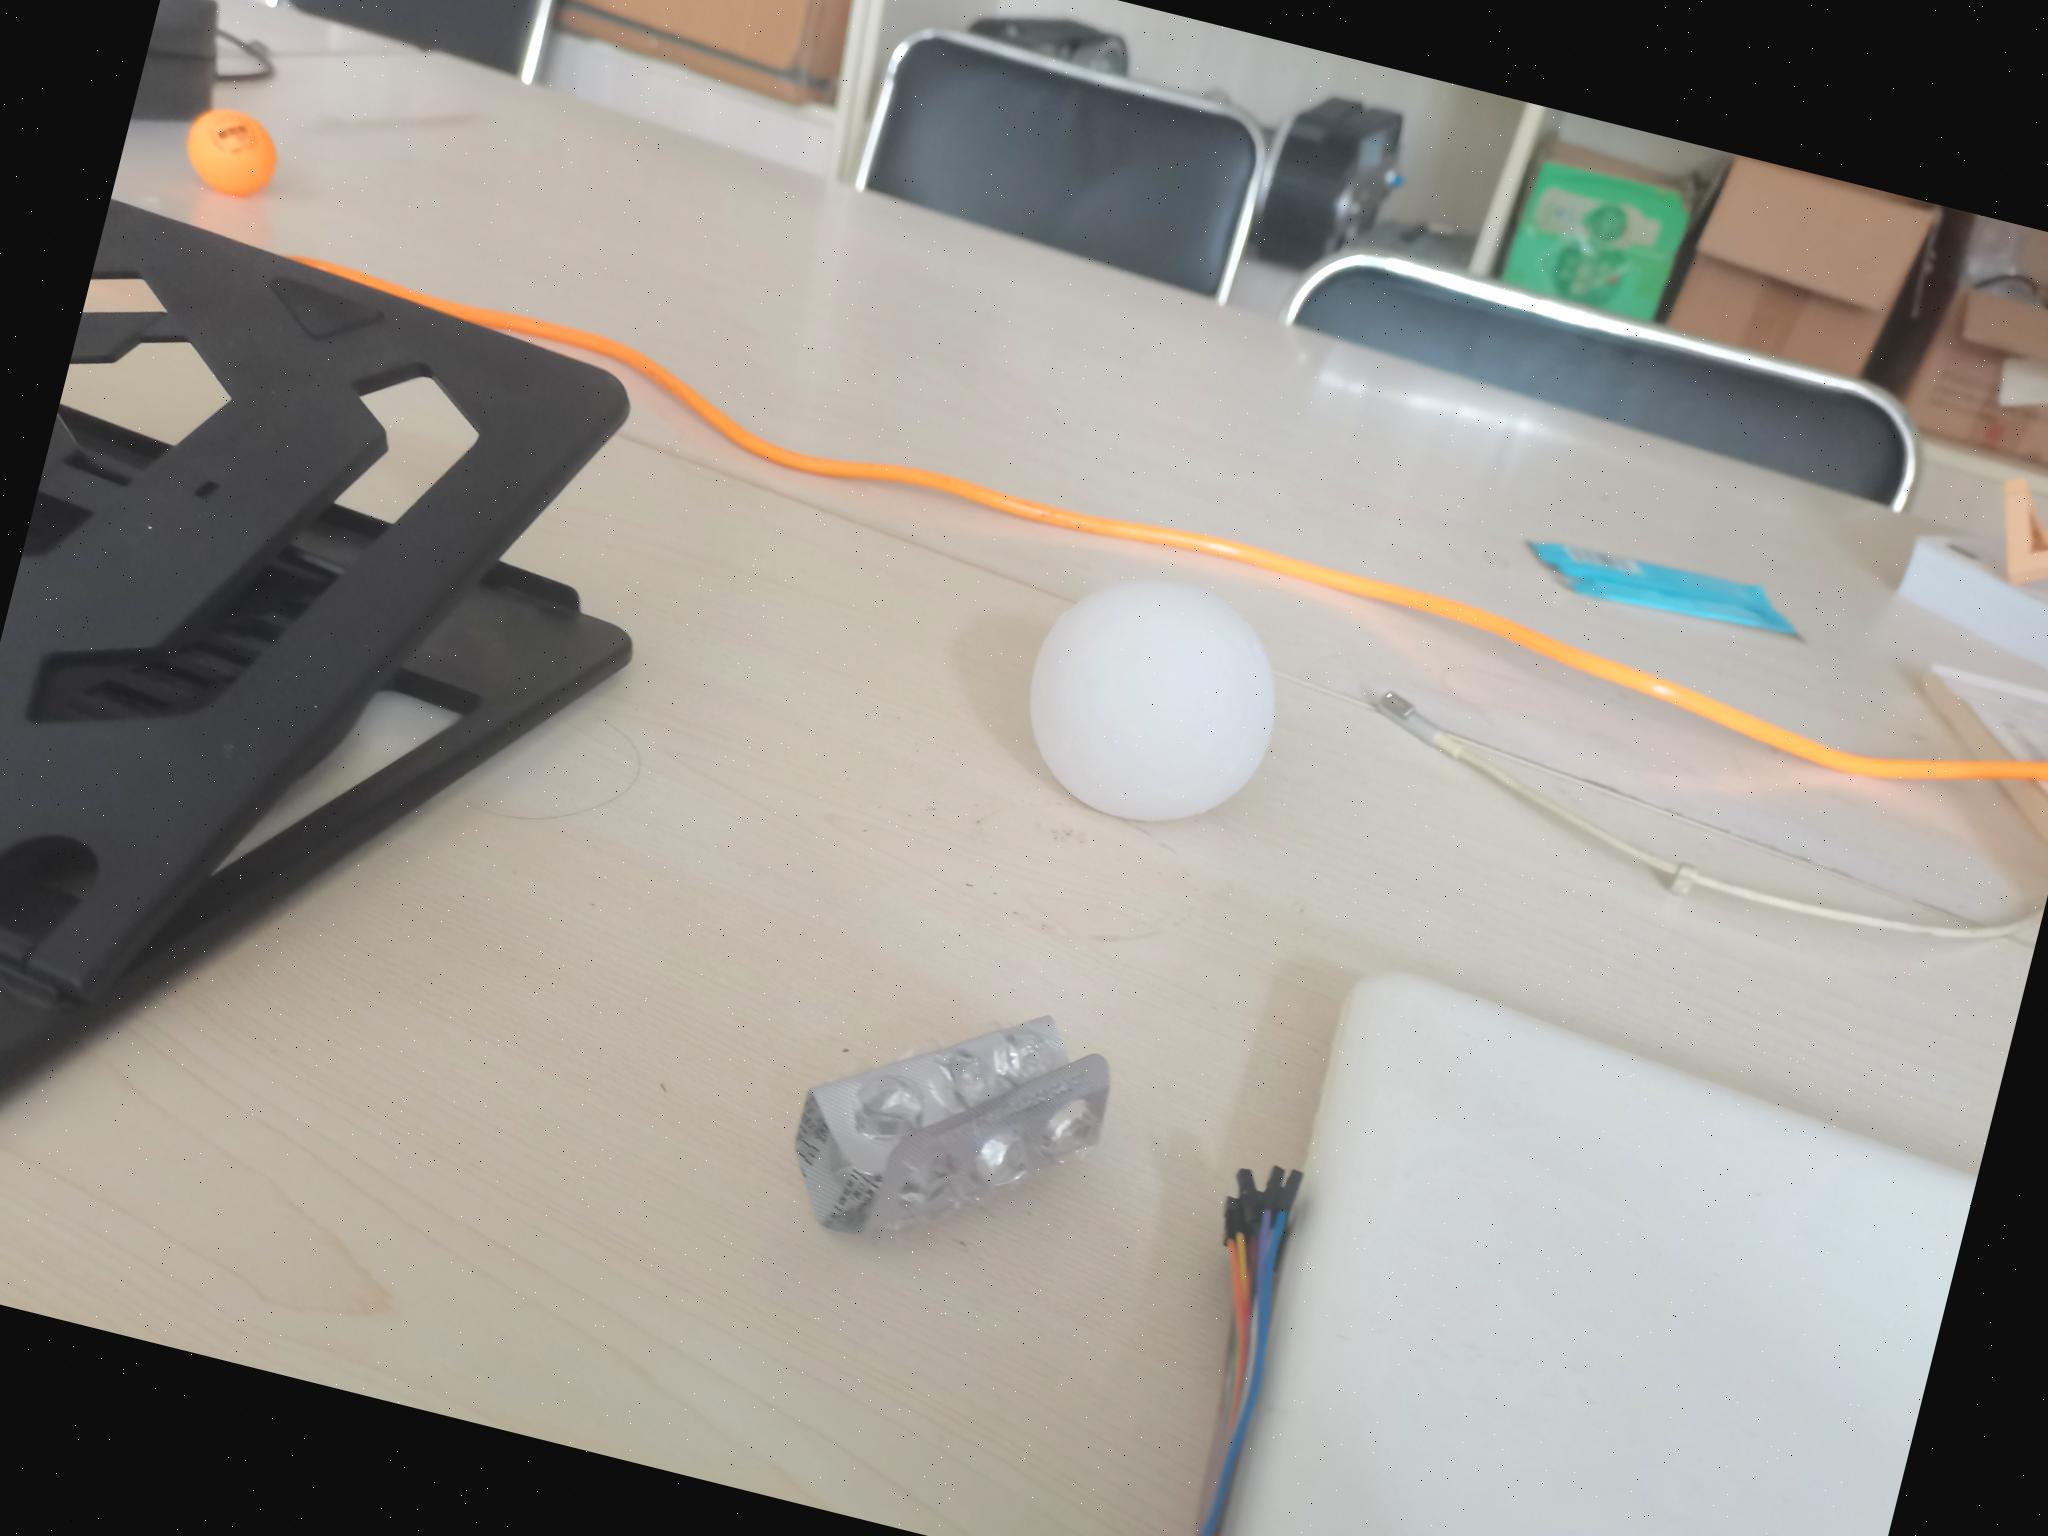ball: (173, 92, 293, 210)
